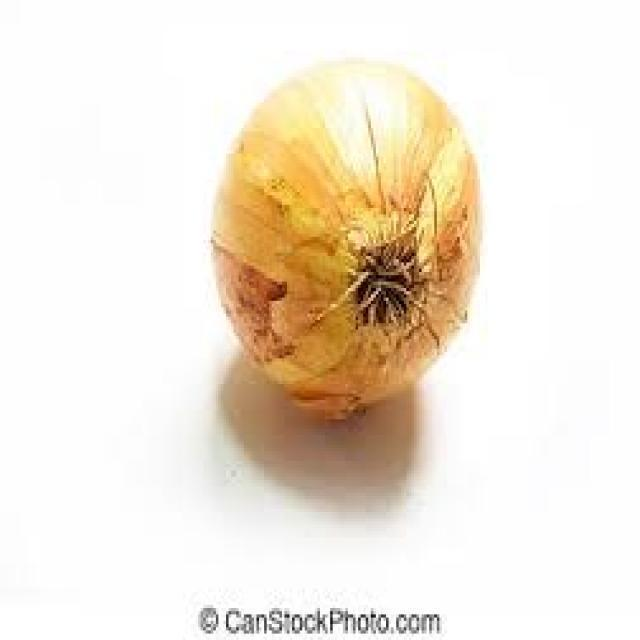Onion: (214, 54, 485, 422)
